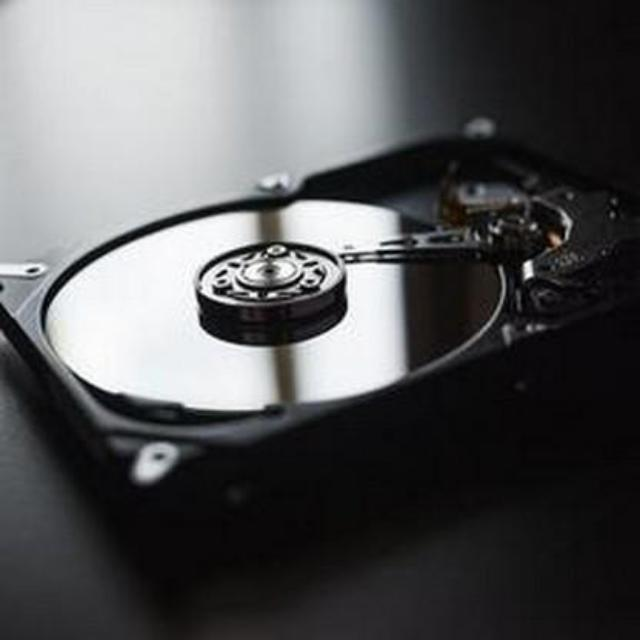DISK: (0, 126, 640, 506)
